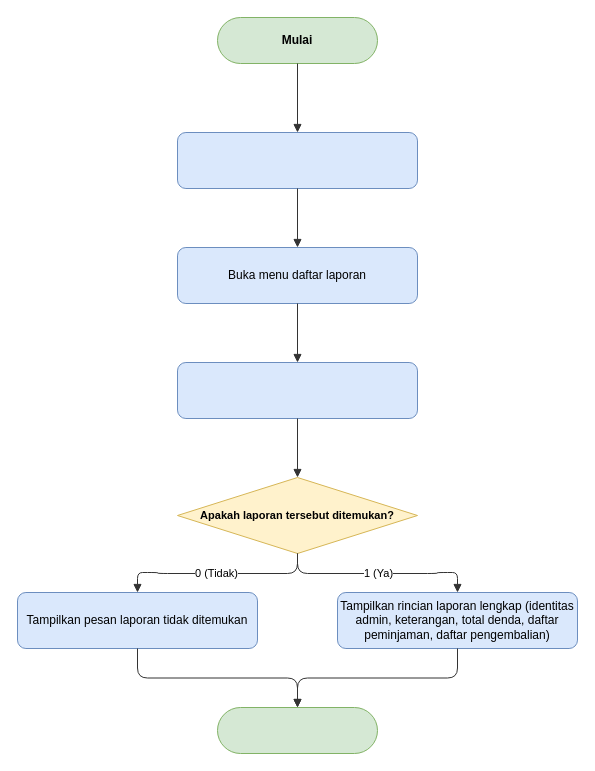
The diagram is 595 pixels wide and 771 high, and some of its shapes have lost their labels. The shapes that lost their labels are listed below. From the top down, each one's box as (x1, y1, x2, y2) in pixels, then its label:
(176, 132, 418, 188): Masuk sebagai Admin
(176, 362, 418, 418): Pilih salah satu laporan untuk melihat rincian
(216, 706, 378, 754): Selesai
